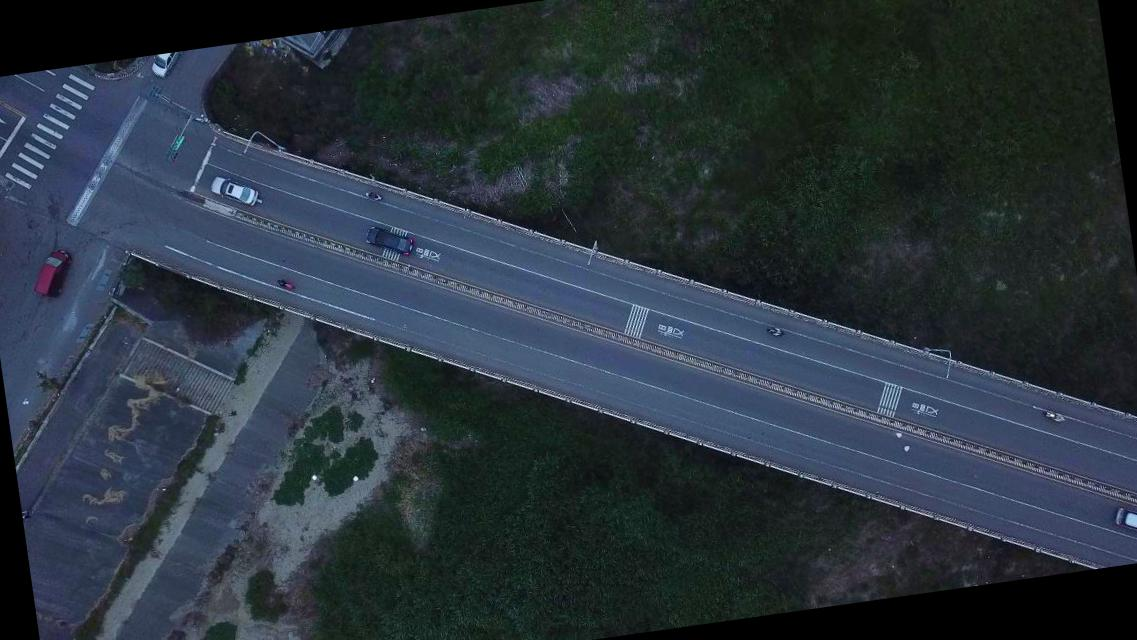vehicle: (30, 248, 74, 301), (363, 220, 417, 262), (210, 171, 260, 212), (1109, 501, 1136, 547), (148, 52, 186, 82)
